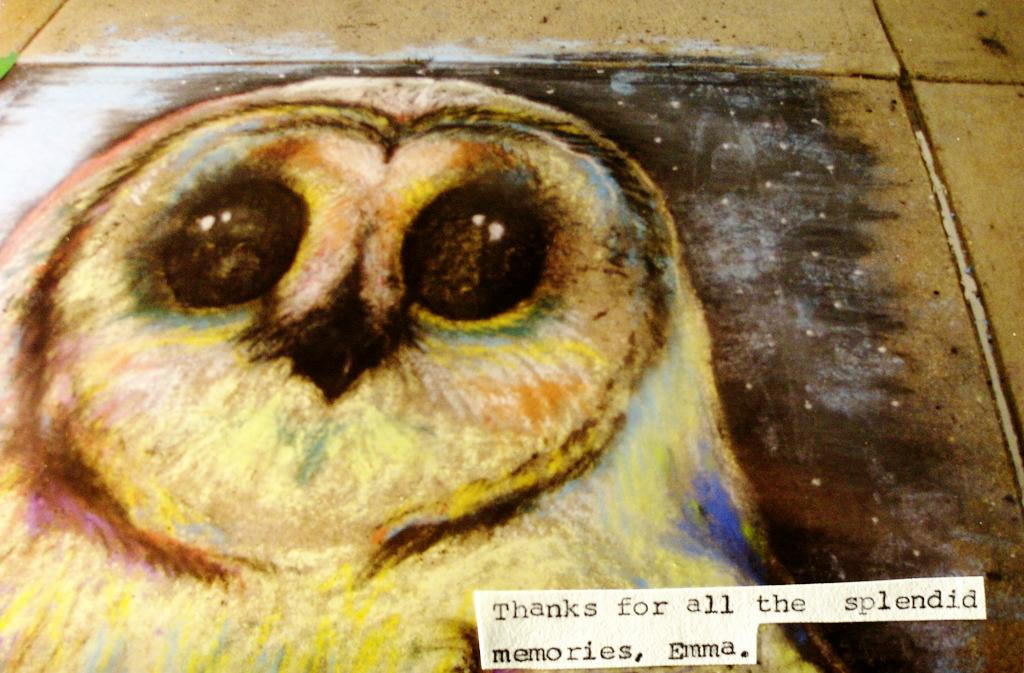Owl: (29, 79, 679, 626)
